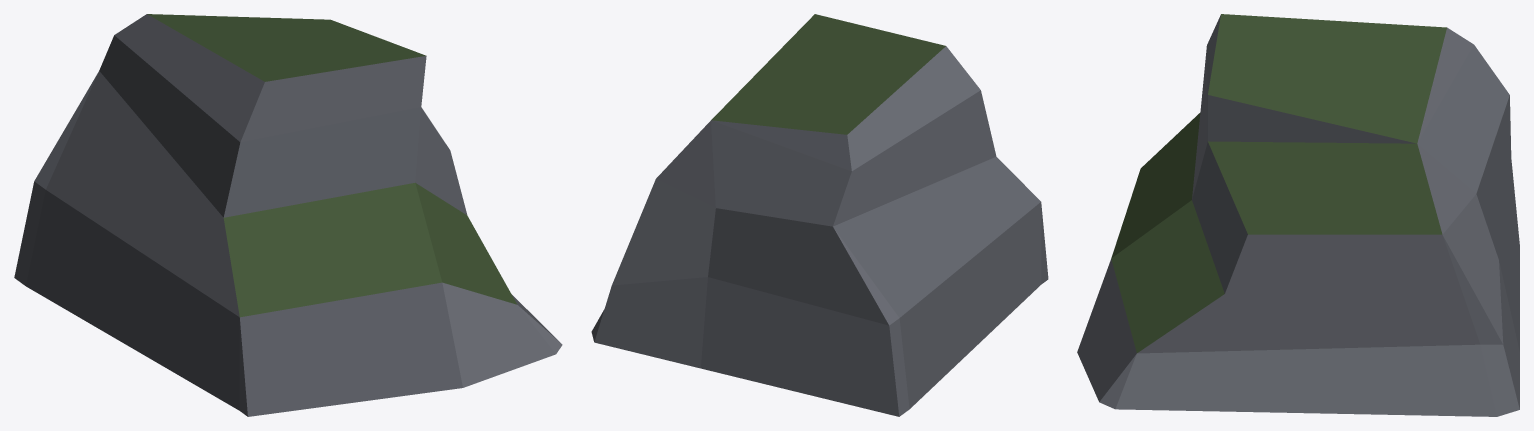
The model's file is rock_moss_3.glb.
The picture shows the model from 3 angles, left to right: view 1: azimuth 30°, elevation 25°; view 2: azimuth 150°, elevation 25°; view 3: azimuth 270°, elevation 25°; orthographic projection. The views are drawn at different scales.
Parts seen in each view (by area): view 1: rock_moss_3; view 2: rock_moss_3; view 3: rock_moss_3.
Part boxes in pixels (x1,y1,x2,y2): rock_moss_3: (14, 14, 562, 416); rock_moss_3: (591, 14, 1048, 416); rock_moss_3: (1077, 14, 1519, 416).
Bounding box in the file's own units: 0.736 × 0.5549 × 0.8.
